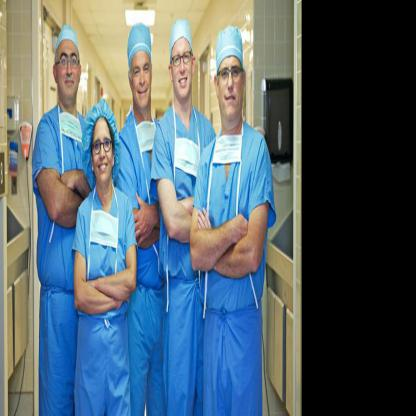face: (219, 48, 243, 121), (57, 37, 79, 104), (172, 36, 193, 101), (94, 117, 113, 184), (132, 46, 152, 108)
